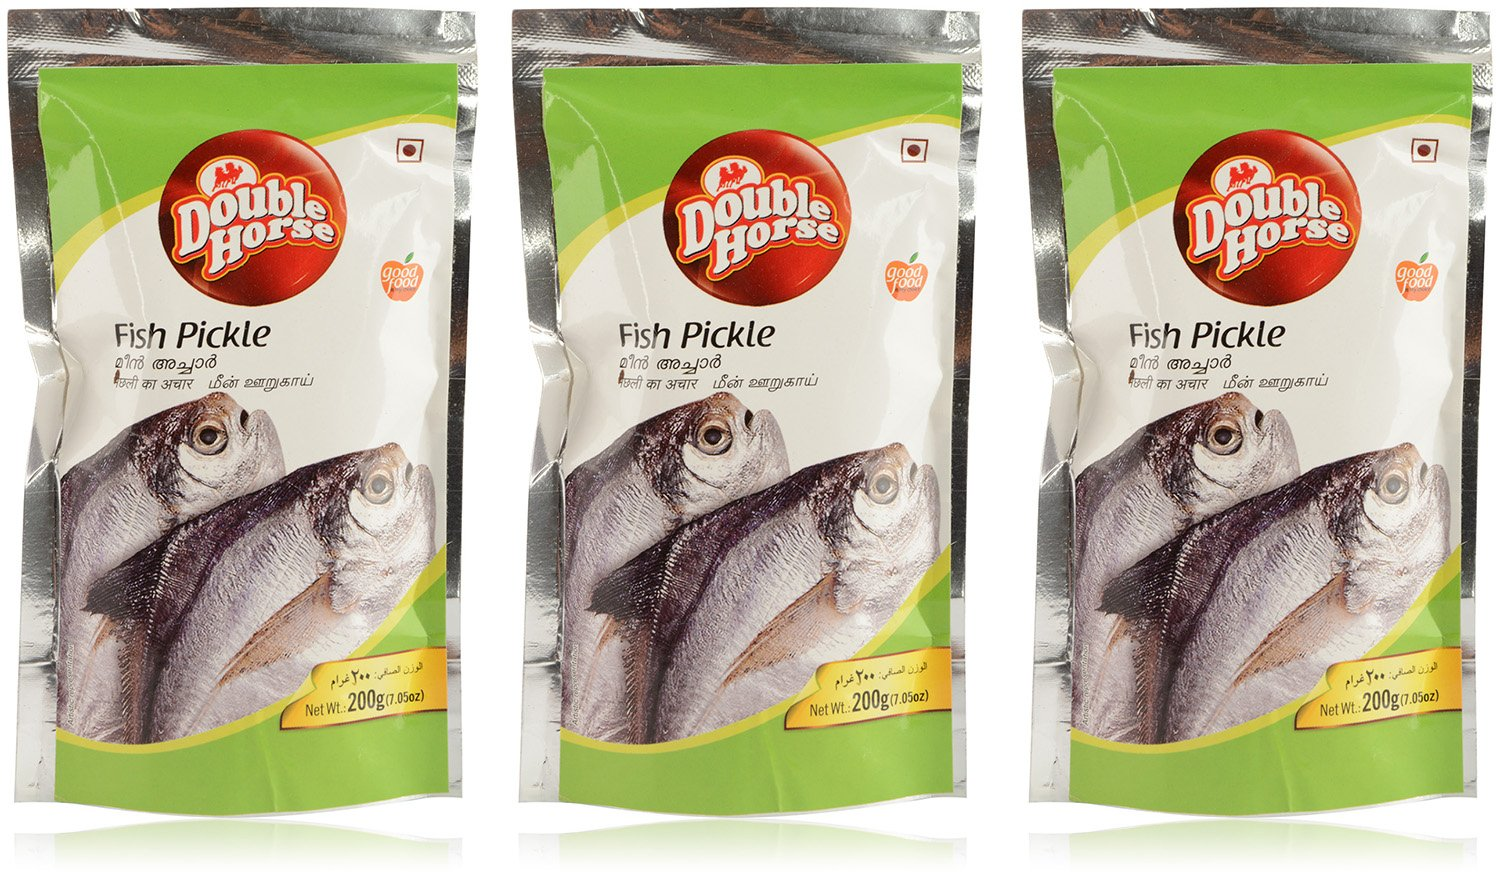nonveg_red: (395, 137, 425, 164), (1410, 137, 1441, 164), (900, 137, 930, 163)
